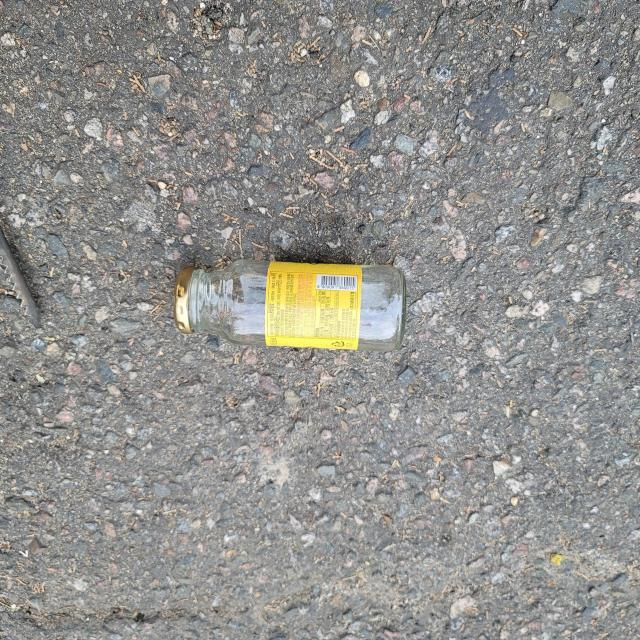glass: (173, 260, 406, 352)
